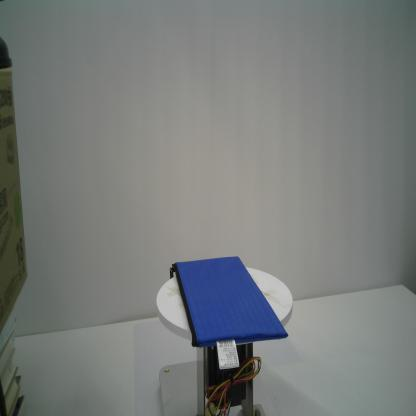Stationery: (167, 253, 290, 371)
